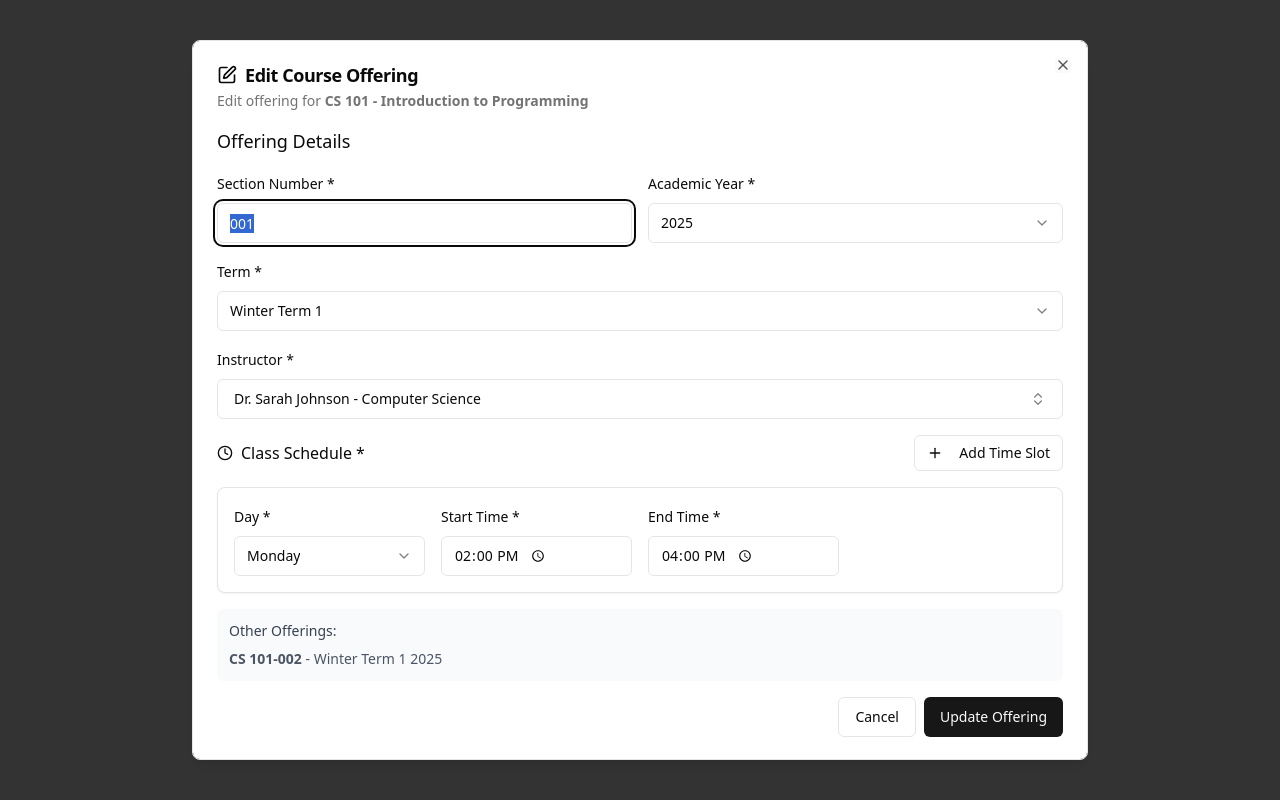
Scenario: EditOfferingModal › prevents submission with invalid form
The width and height of the screenshot is (1280, 800).
Clear the field showing "001" at [424, 223], box [217,203,632,243]
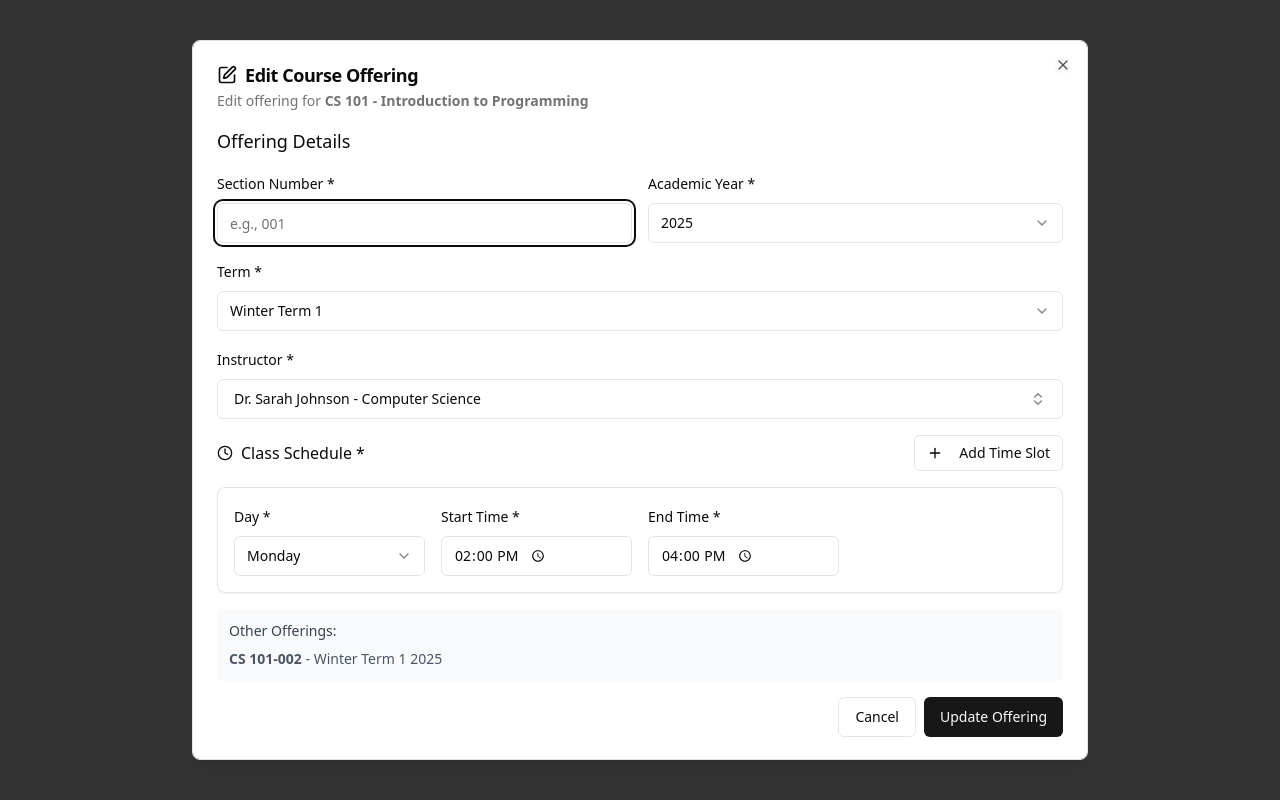
Click the button "Update Offering" at [994, 717], box [924,697,1063,737]
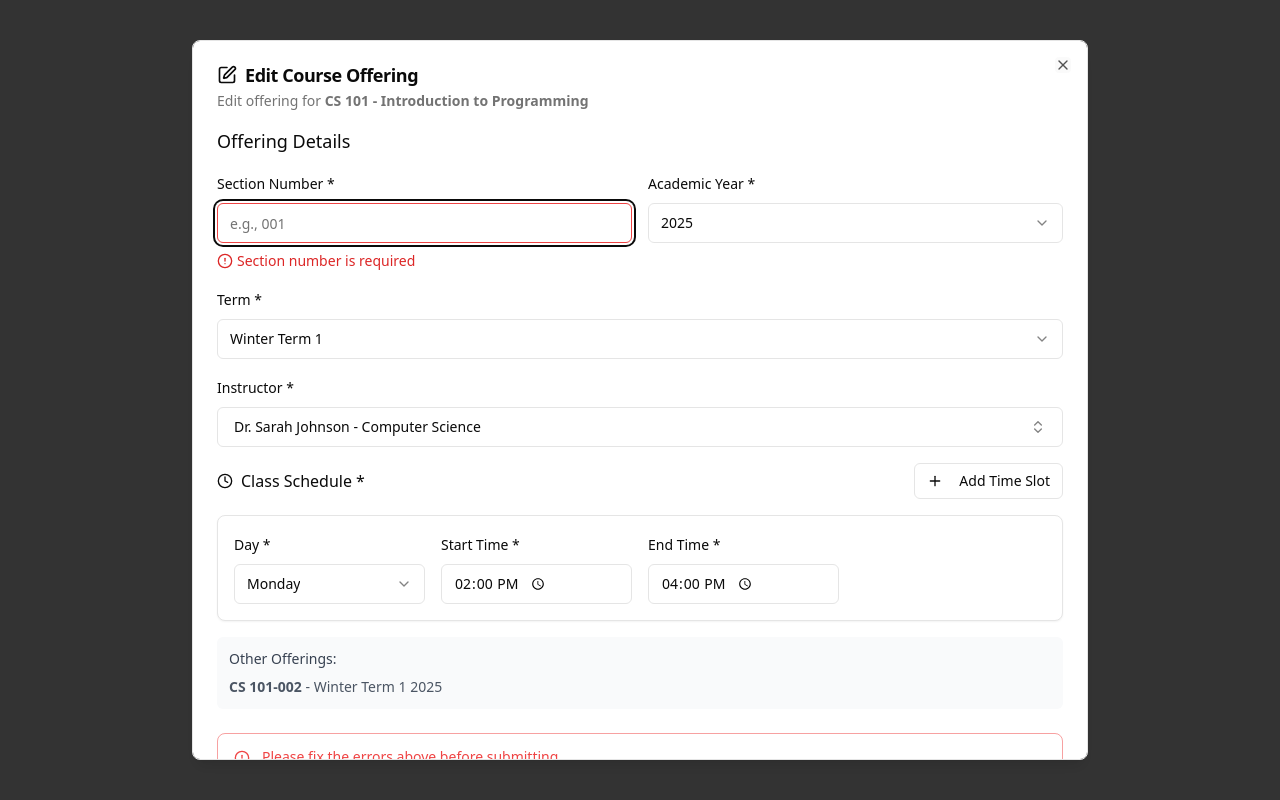
Expected: the text "Please fix the errors above before submitting." is shown, [262,747,562,760]
